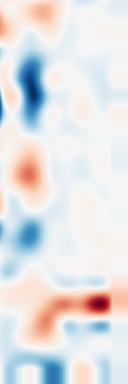filament: (7, 142, 55, 213)
